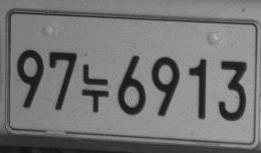1: (185, 58, 216, 119)
3: (218, 60, 247, 121)
6: (117, 54, 146, 115)
7: (49, 51, 77, 110)
9: (151, 56, 180, 116), (16, 48, 44, 108)
누: (81, 63, 109, 112)
